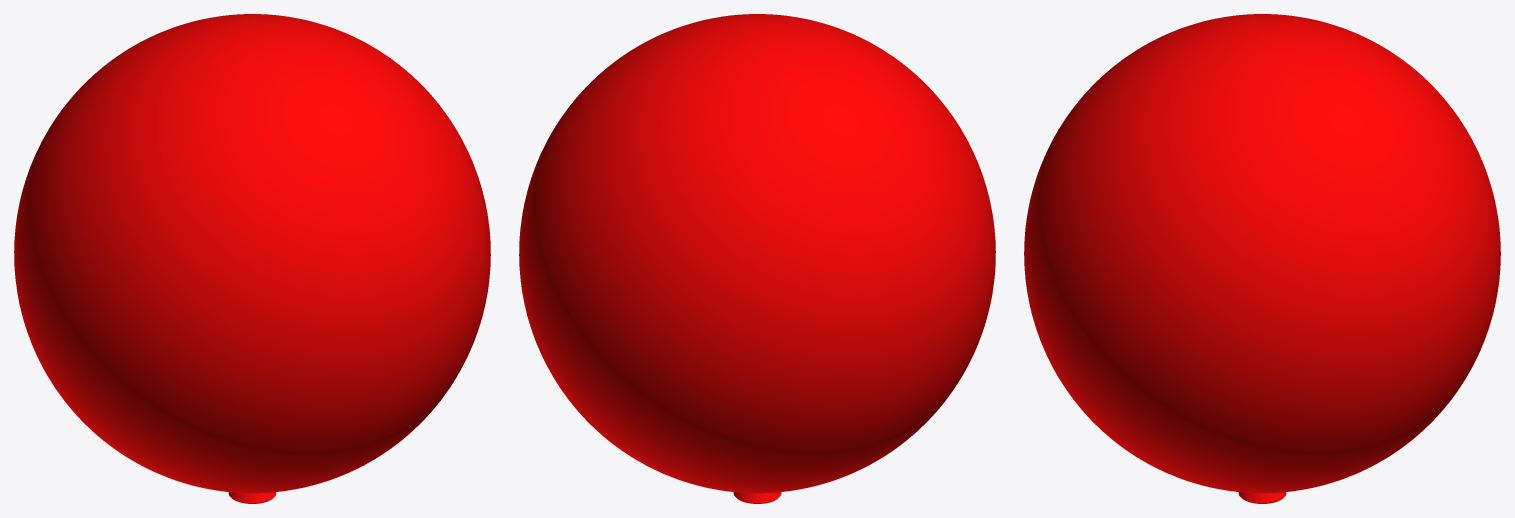
Rendered from balloon.glb.
3 renders of one model, left to right at view 1: azimuth 30°, elevation 25°; view 2: azimuth 150°, elevation 25°; view 3: azimuth 270°, elevation 25°, orthographic.
Visible parts, largest first — view 1: Object_3; view 2: Object_3; view 3: Object_3.
Boxes of the visible parts, left/top/right/bottom form: Object_3: left=14, top=14, right=490, bottom=493; Object_3: left=519, top=14, right=995, bottom=493; Object_3: left=1024, top=14, right=1500, bottom=493.
Size of the model in its own units: 0.9872 by 1.05 by 0.9872.
